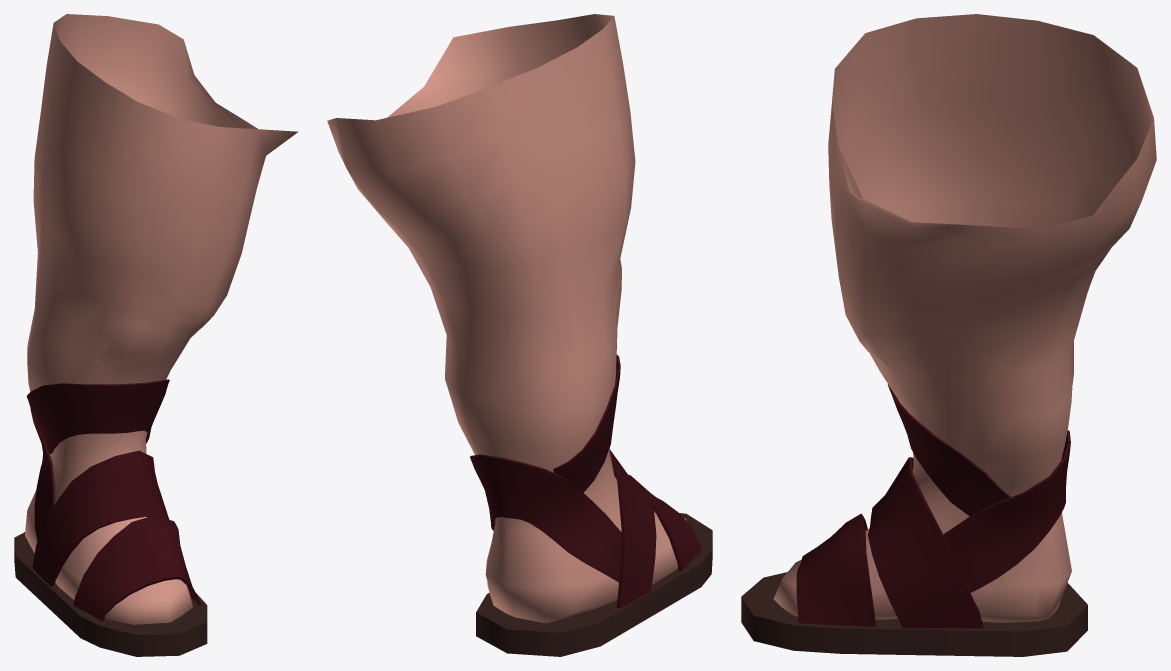
Rendered from big_enemy_leg_r.fbx.
3 views of the same model, side by side, from view 1: azimuth 30°, elevation 25°; view 2: azimuth 150°, elevation 25°; view 3: azimuth 270°, elevation 25° (orthographic). The views are drawn at different scales.
Parts seen in each view (by area): view 1: body.003, sandal_stripe_03.001, sandal_stripe_04.001, sandals.001, sandal_stripe_01.001, sandal_stripe_02.001; view 2: body.003, sandal_stripe_02.001, sandals.001, sandal_stripe_03.001, sandal_stripe_01.001, sandal_stripe_04.001; view 3: body.003, sandals.001, sandal_stripe_03.001, sandal_stripe_02.001, sandal_stripe_04.001, sandal_stripe_01.001.
Part boxes in pixels (box(x1,y1,x2,y2)): body.003: box(25, 14, 298, 624); sandal_stripe_03.001: box(32, 450, 169, 586); sandal_stripe_04.001: box(73, 515, 201, 621); sandals.001: box(14, 532, 207, 656); sandal_stripe_01.001: box(26, 379, 169, 453); sandal_stripe_02.001: box(30, 409, 55, 541); body.003: box(327, 14, 686, 623); sandal_stripe_02.001: box(470, 454, 621, 582); sandals.001: box(476, 513, 712, 656); sandal_stripe_03.001: box(609, 450, 656, 608); sandal_stripe_01.001: box(553, 354, 620, 492); sandal_stripe_04.001: box(628, 474, 700, 571); body.003: box(773, 14, 1156, 622); sandals.001: box(741, 572, 1087, 656); sandal_stripe_03.001: box(868, 457, 983, 628); sandal_stripe_02.001: box(943, 430, 1070, 592); sandal_stripe_04.001: box(796, 513, 875, 626); sandal_stripe_01.001: box(887, 384, 1011, 515).
Bounding box in the file's own units: 72.54 × 163 × 101.
